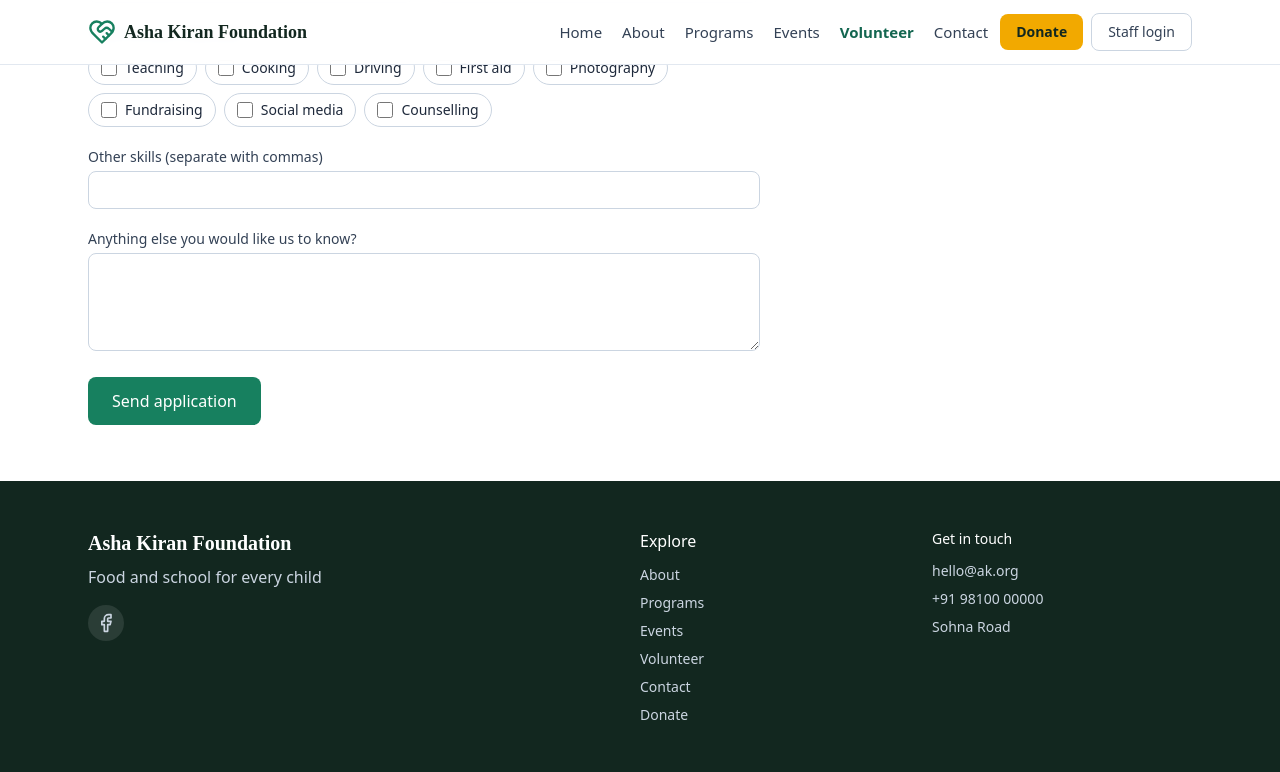
Test: volunteer application form › explains what is missing
The image size is (1280, 772).
(page scrolled)
Click the button "Send application": point(174, 400) left=88, top=376, right=261, bottom=424
(page scrolled)
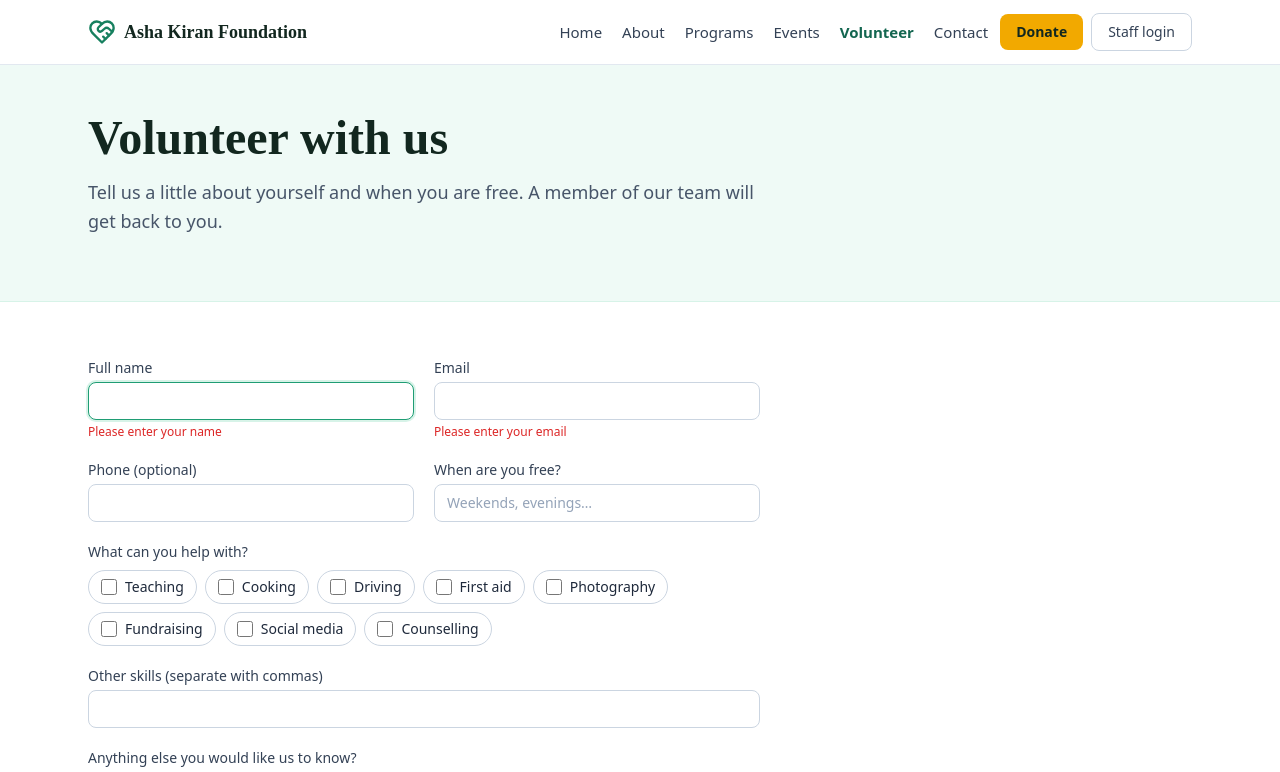
Now the text "Please enter your name" is shown, box left=88, top=422, right=222, bottom=440
Now the text "Please enter your email" is shown, box left=434, top=422, right=567, bottom=440
